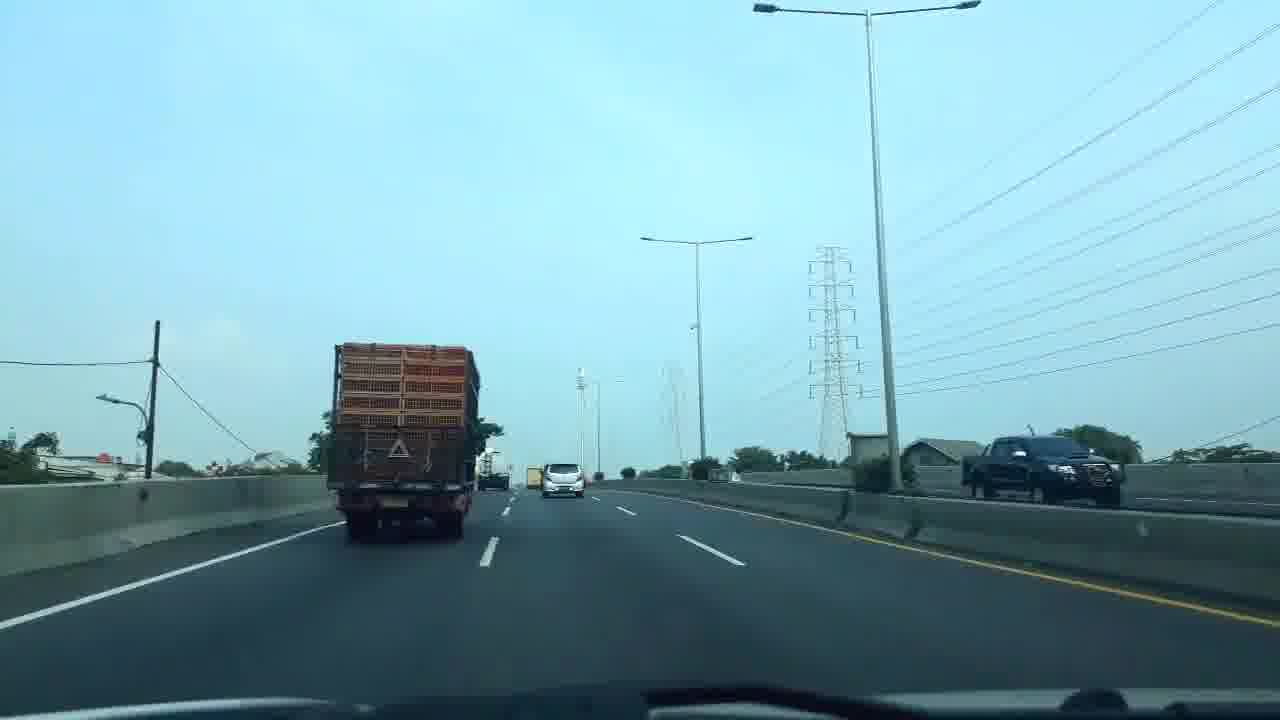plate_positive: (381, 498, 409, 508), (559, 486, 569, 491)
